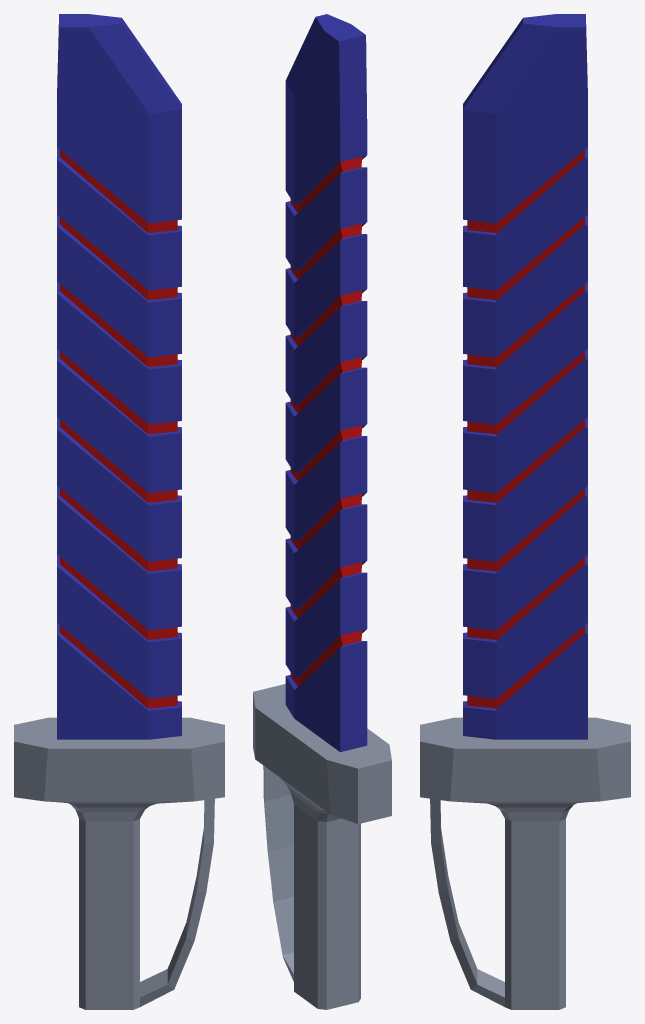
File: sword.fbx
The picture shows the model from 3 angles, left to right: view 1: azimuth 90°, elevation 25°; view 2: azimuth 210°, elevation 25°; view 3: azimuth 270°, elevation 25°; orthographic projection.
Parts seen in each view (by area): view 1: Cube.002; view 2: Cube.002; view 3: Cube.002.
Part boxes in pixels (bbox=[...]): Cube.002: bbox=[14, 14, 224, 1009]; Cube.002: bbox=[253, 14, 391, 1009]; Cube.002: bbox=[420, 14, 630, 1009].
Bounding box in the file's own units: 22.49 × 334 × 65.2.
